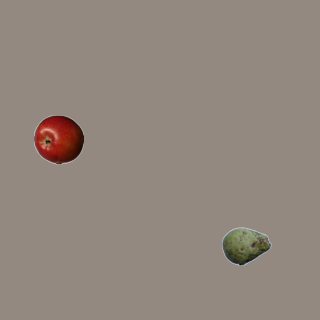Apple Braeburn: (33, 114, 83, 164)
Pear Stone: (221, 221, 271, 271)
